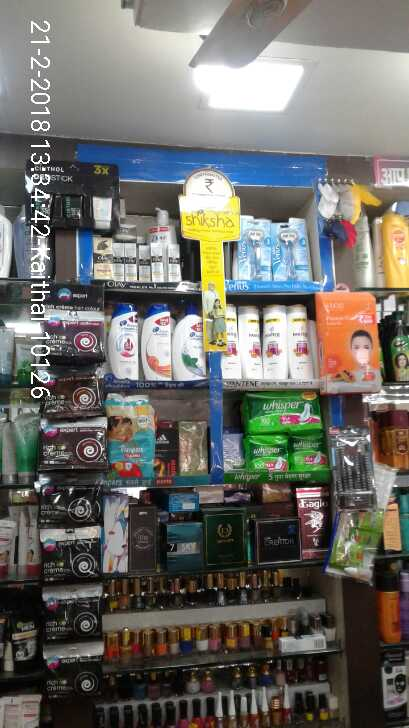venus: (236, 213, 274, 278), (274, 217, 309, 278)
